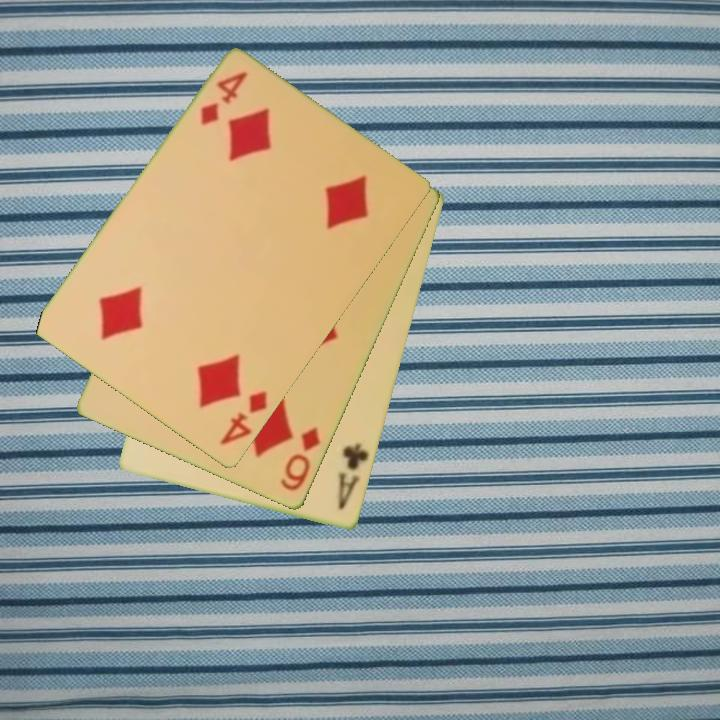4d: (216, 387, 271, 449), (197, 68, 251, 129)
6d: (277, 424, 324, 495)
Ac: (334, 440, 372, 514)
